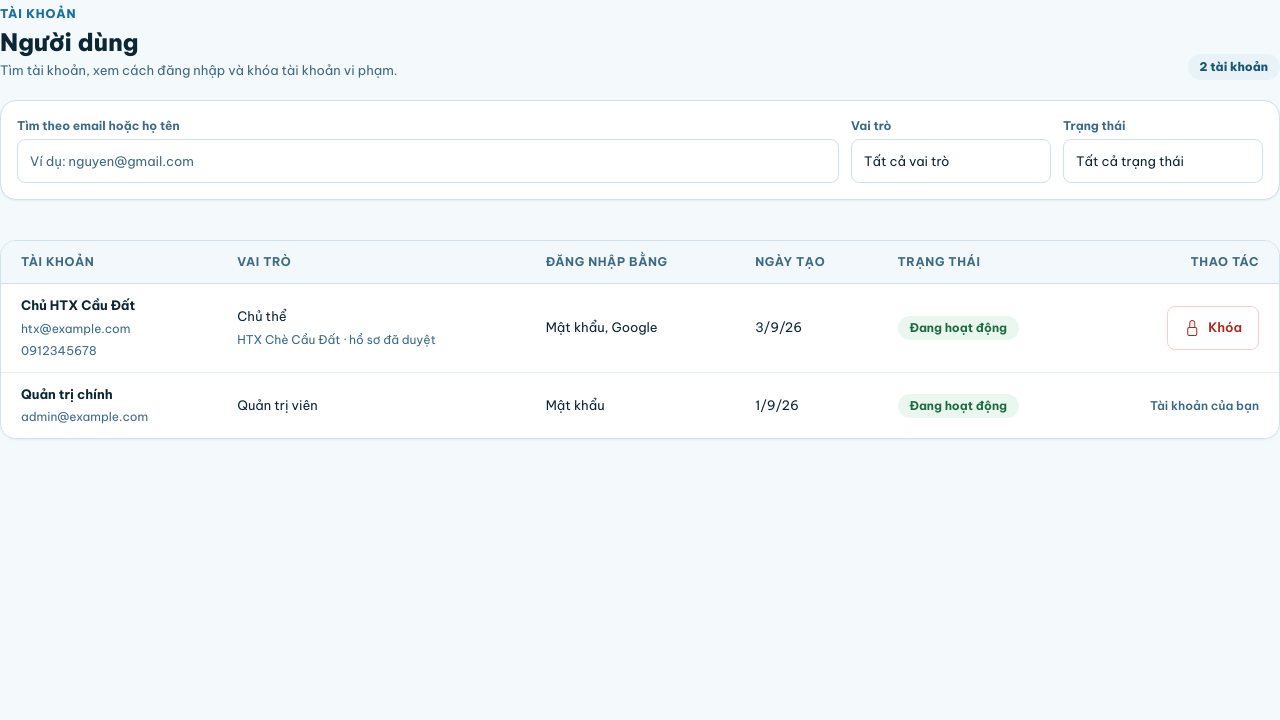
Test case: AdminUsersView › khóa tài khoản sau khi xác nhận trong hộp thoại
The width and height of the screenshot is (1280, 720).
Click the button with aria-label "Khóa tài khoản htx@example.com": (1213, 328) [1167,306,1259,350]
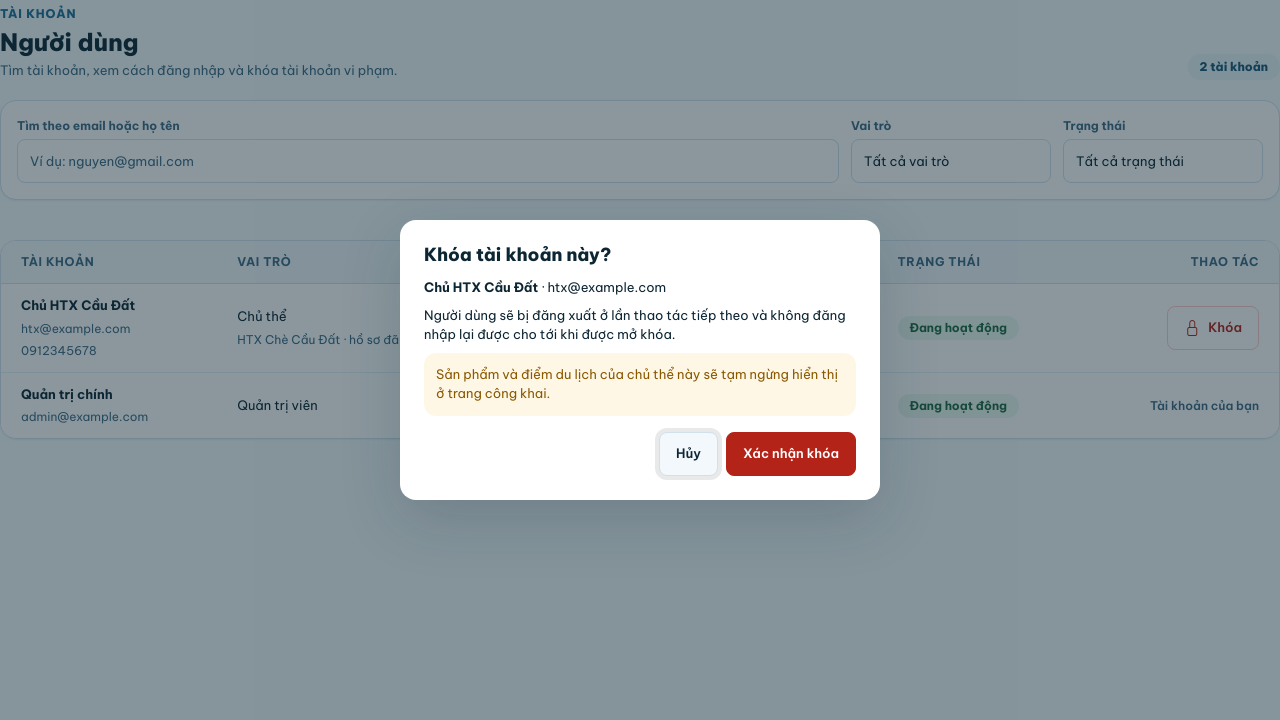
Expected: the dialog shows "Sản phẩm và điểm du lịch của chủ thể này sẽ tạm ngừng hiển thị", [436,366,838,401]
Click the button "Xác nhận khóa": (791, 454) [726,432,856,476]
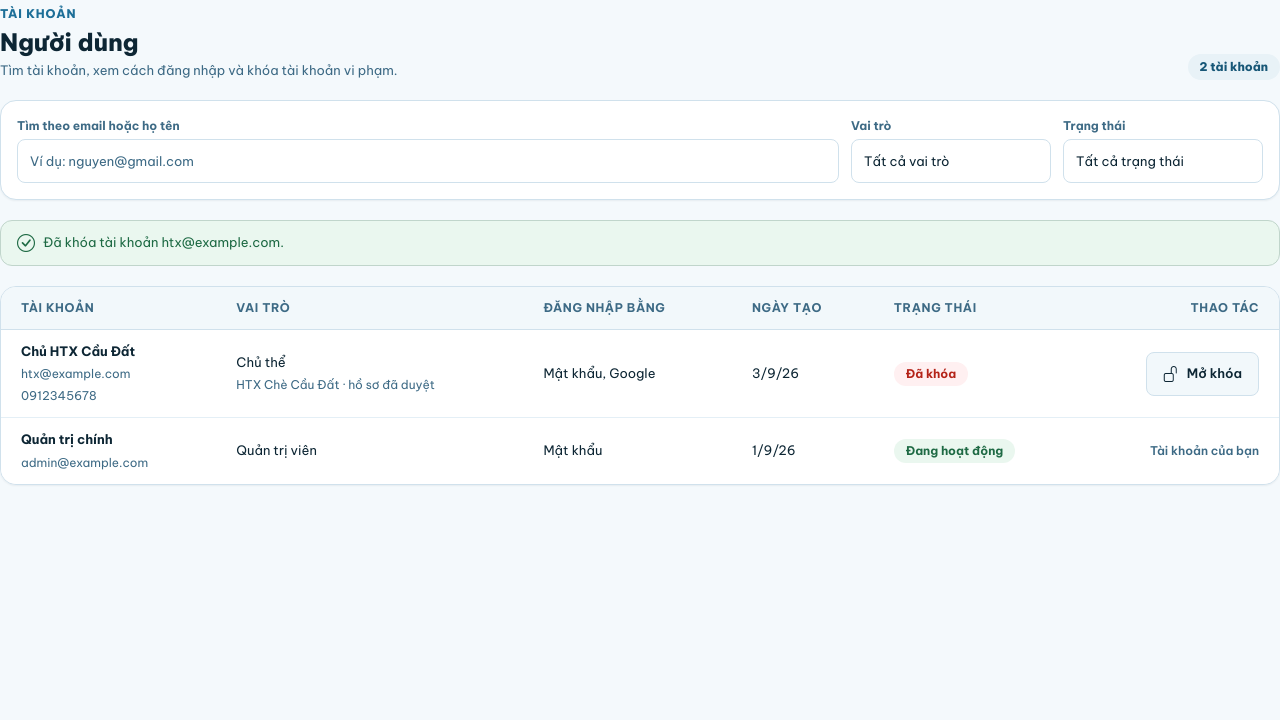
Expected: the text "Đã khóa tài khoản htx@example.com." is shown, [0,220,1279,266]
Expected: the button with aria-label "Mở khóa tài khoản htx@example.com" reads "Mở khóa", [1146,352,1259,396]
